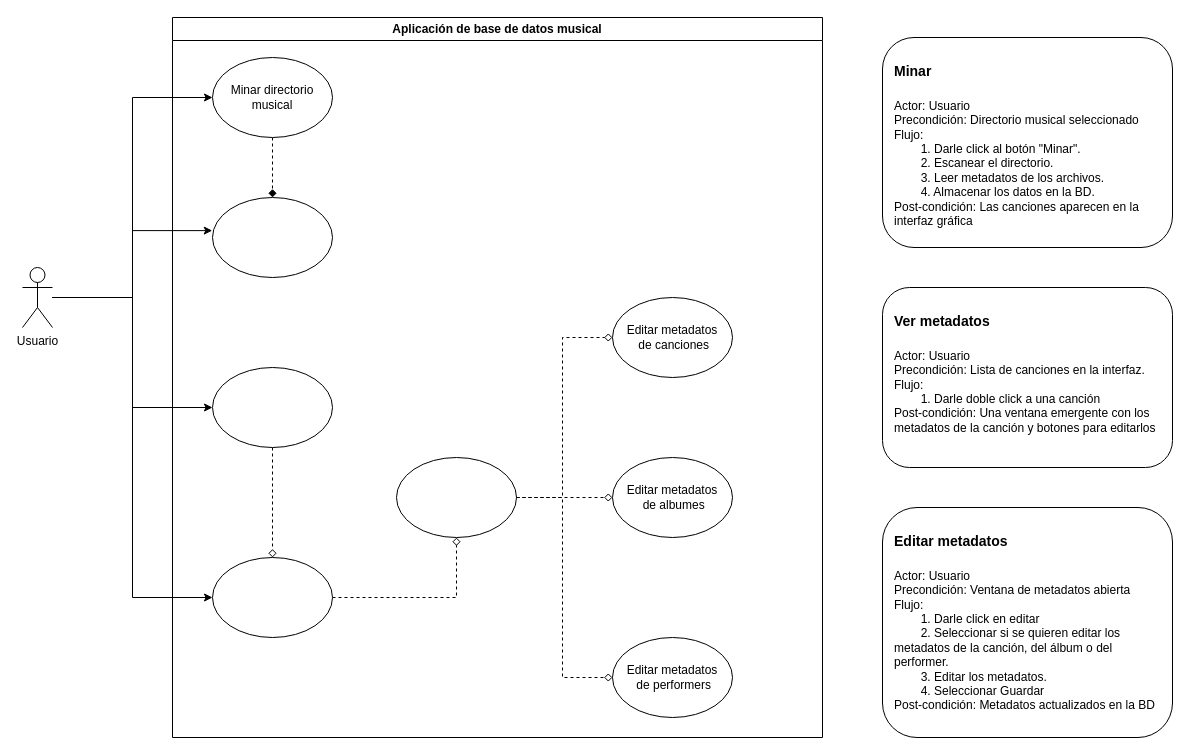
The diagram is 1190 pixels wide and 755 high, and some of its shapes have lost their labels. The shapes that lost their labels are listed below. From the top down, each one's centre as x and y in pixels, then its label:
At pixel 272 237: "Seleccionar directorio musical".
At pixel 272 407: "Buscar canciones".
At pixel 456 497: "Ver metadatos".
At pixel 272 597: "Navegar canciones".
